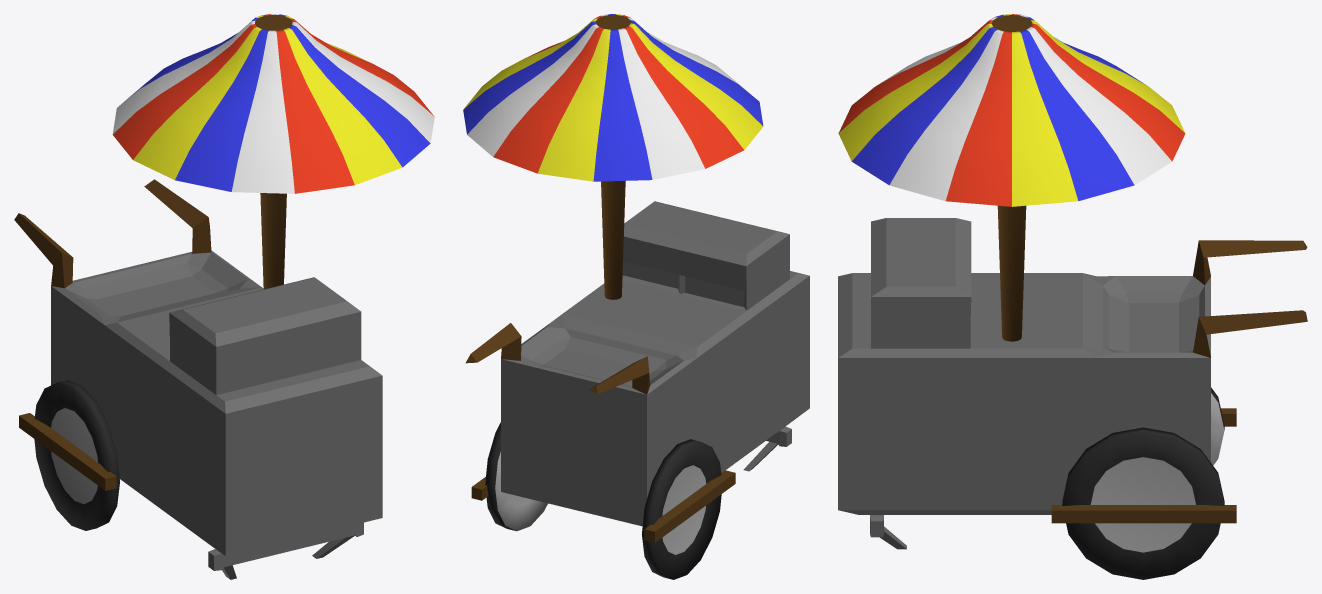
Rendered from hotdog stand.fbx.
3 renders of one model, left to right at view 1: azimuth 30°, elevation 25°; view 2: azimuth 150°, elevation 25°; view 3: azimuth 270°, elevation 25°, orthographic. The views are drawn at different scales.
Visible parts, largest first — view 1: Hot dog stand; view 2: Hot dog stand; view 3: Hot dog stand.
Part boxes in pixels (<box>): Hot dog stand: <box>14,14,434,579</box>; Hot dog stand: <box>463,14,809,579</box>; Hot dog stand: <box>838,14,1307,579</box>.
Bounding box in the file's own units: 6.66 × 11.25 × 8.73.
